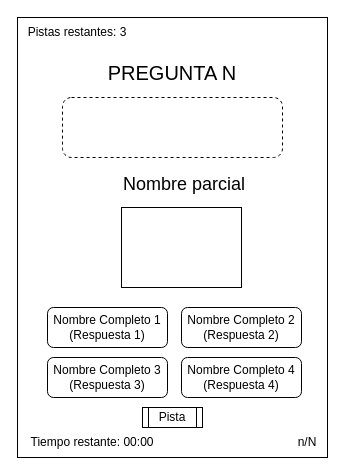
The diagram is 345 pixels wide and 475 high, and some of its shapes have lost their labels. The centre of each missing label's shape, as x and y in pixels:
"Enunciado de la pregunta" belongs at [172,127].
"Foto (opcional)" belongs at [181,247].
